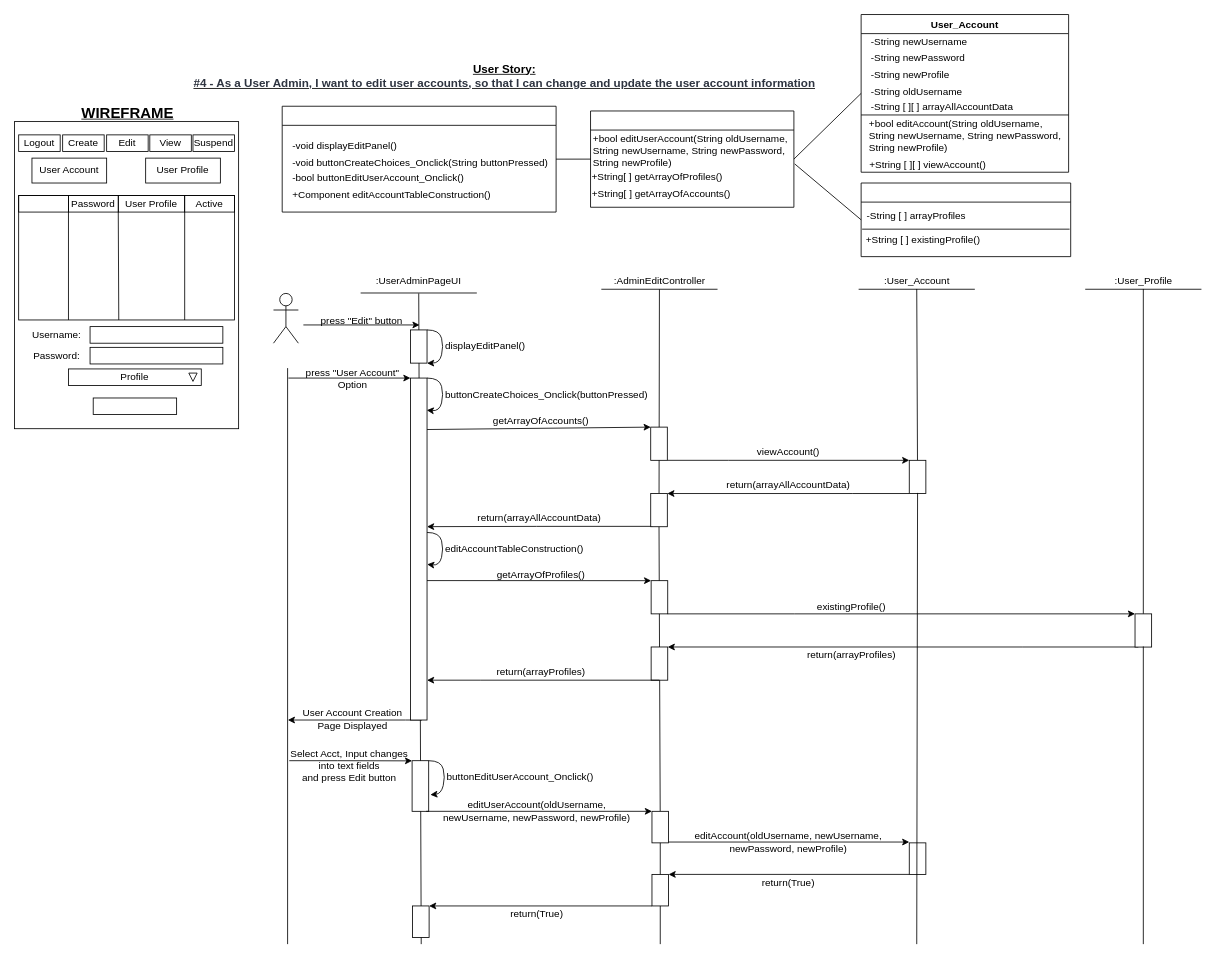
Image size: 1217x959. Some labels were removed from this diagram. Here are the shapes that lost their labels. From the top down, the box of each, then its label:
(281, 105, 556, 212): UserAdminPageUI
(590, 110, 794, 207): AdminEditController
(18, 195, 68, 212): Username
(860, 182, 1071, 257): User_Profile
(273, 293, 298, 343): User Admin
(92, 397, 177, 415): Edit User Account
